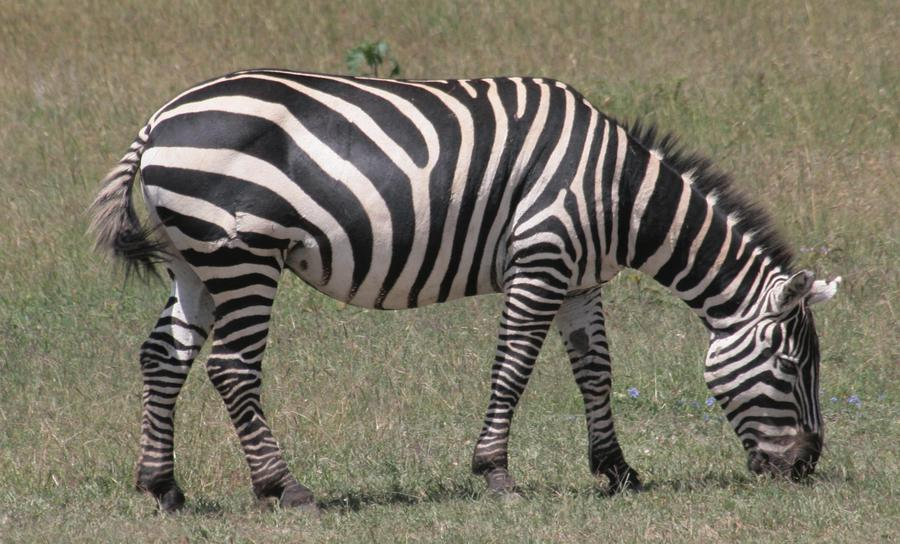zebra_plains: (167, 57, 611, 317)
